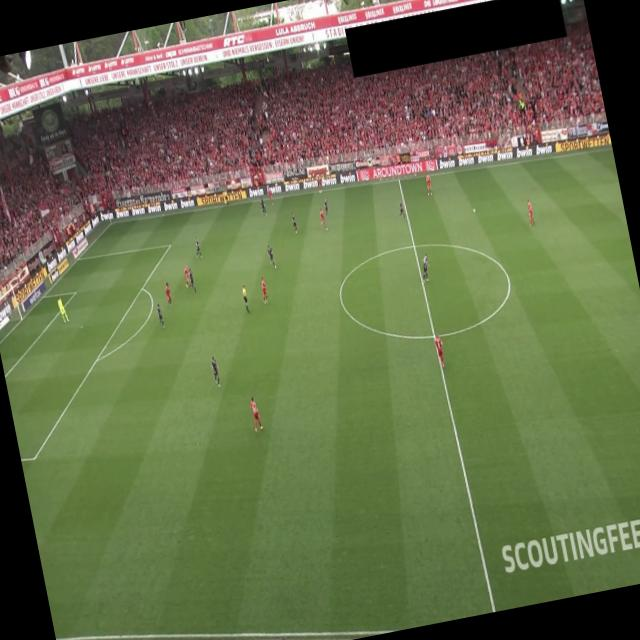ball: (472, 207, 477, 214)
goalkeeper: (56, 295, 70, 324)
player: (248, 395, 265, 435), (433, 332, 448, 369), (418, 252, 432, 282), (210, 356, 222, 388), (258, 276, 270, 305), (525, 198, 536, 228), (266, 243, 277, 270), (164, 282, 174, 308), (188, 267, 197, 294), (424, 174, 435, 196), (183, 265, 193, 289), (318, 207, 328, 231), (156, 303, 165, 329), (193, 237, 203, 258), (290, 212, 298, 234), (397, 200, 406, 219), (316, 174, 324, 194), (266, 186, 274, 206), (260, 197, 268, 216), (323, 197, 330, 216)
referee: (240, 284, 251, 314), (222, 188, 230, 205)
